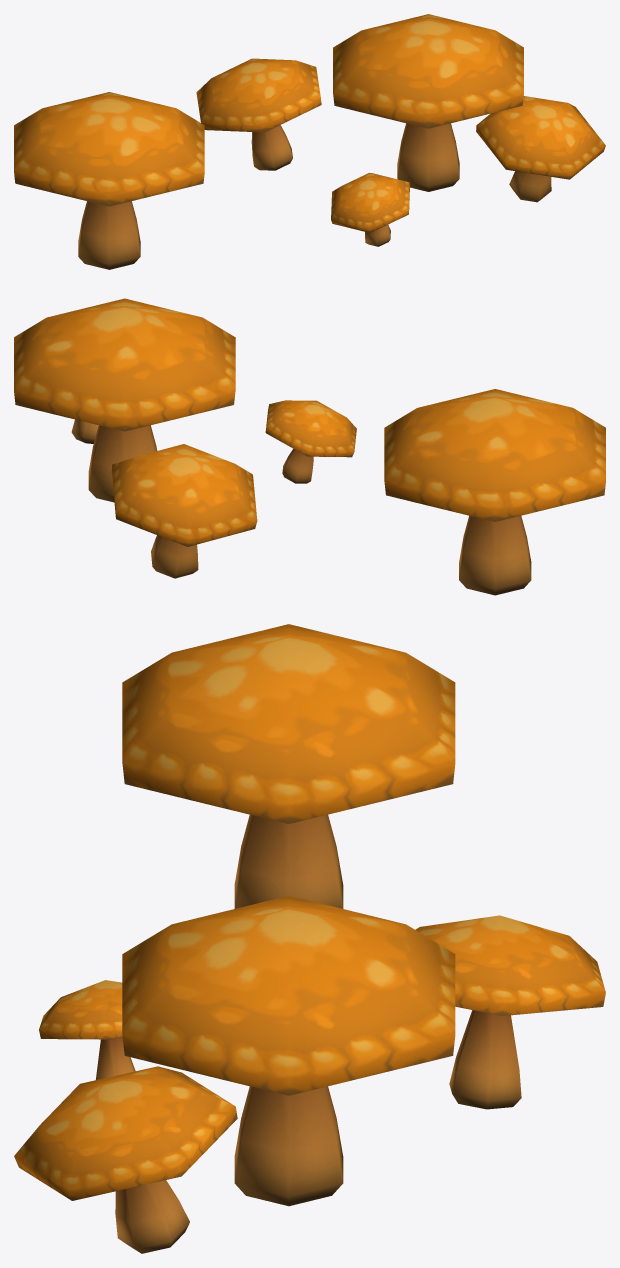
Rendered from Mushroom_03.FBX.
3 renders of one model, top to bottom at view 1: azimuth 30°, elevation 25°; view 2: azimuth 150°, elevation 25°; view 3: azimuth 270°, elevation 25°, orthographic. The views are drawn at different scales.
Visible parts, largest first — view 1: Mushroom 3_group, Mushroom 3_single; view 2: Mushroom 3_group, Mushroom 3_single; view 3: Mushroom 3_group, Mushroom 3_single.
Part boxes in pixels (x1,y1,x2,y2): Mushroom 3_group: (196, 14, 605, 246); Mushroom 3_single: (14, 92, 204, 269); Mushroom 3_group: (14, 298, 356, 578); Mushroom 3_single: (384, 389, 605, 595); Mushroom 3_group: (14, 896, 605, 1253); Mushroom 3_single: (122, 624, 455, 908).
Bounding box in the file's own units: 31.49 × 9.05 × 17.45.
Materials: 1 (1 with a texture image).
